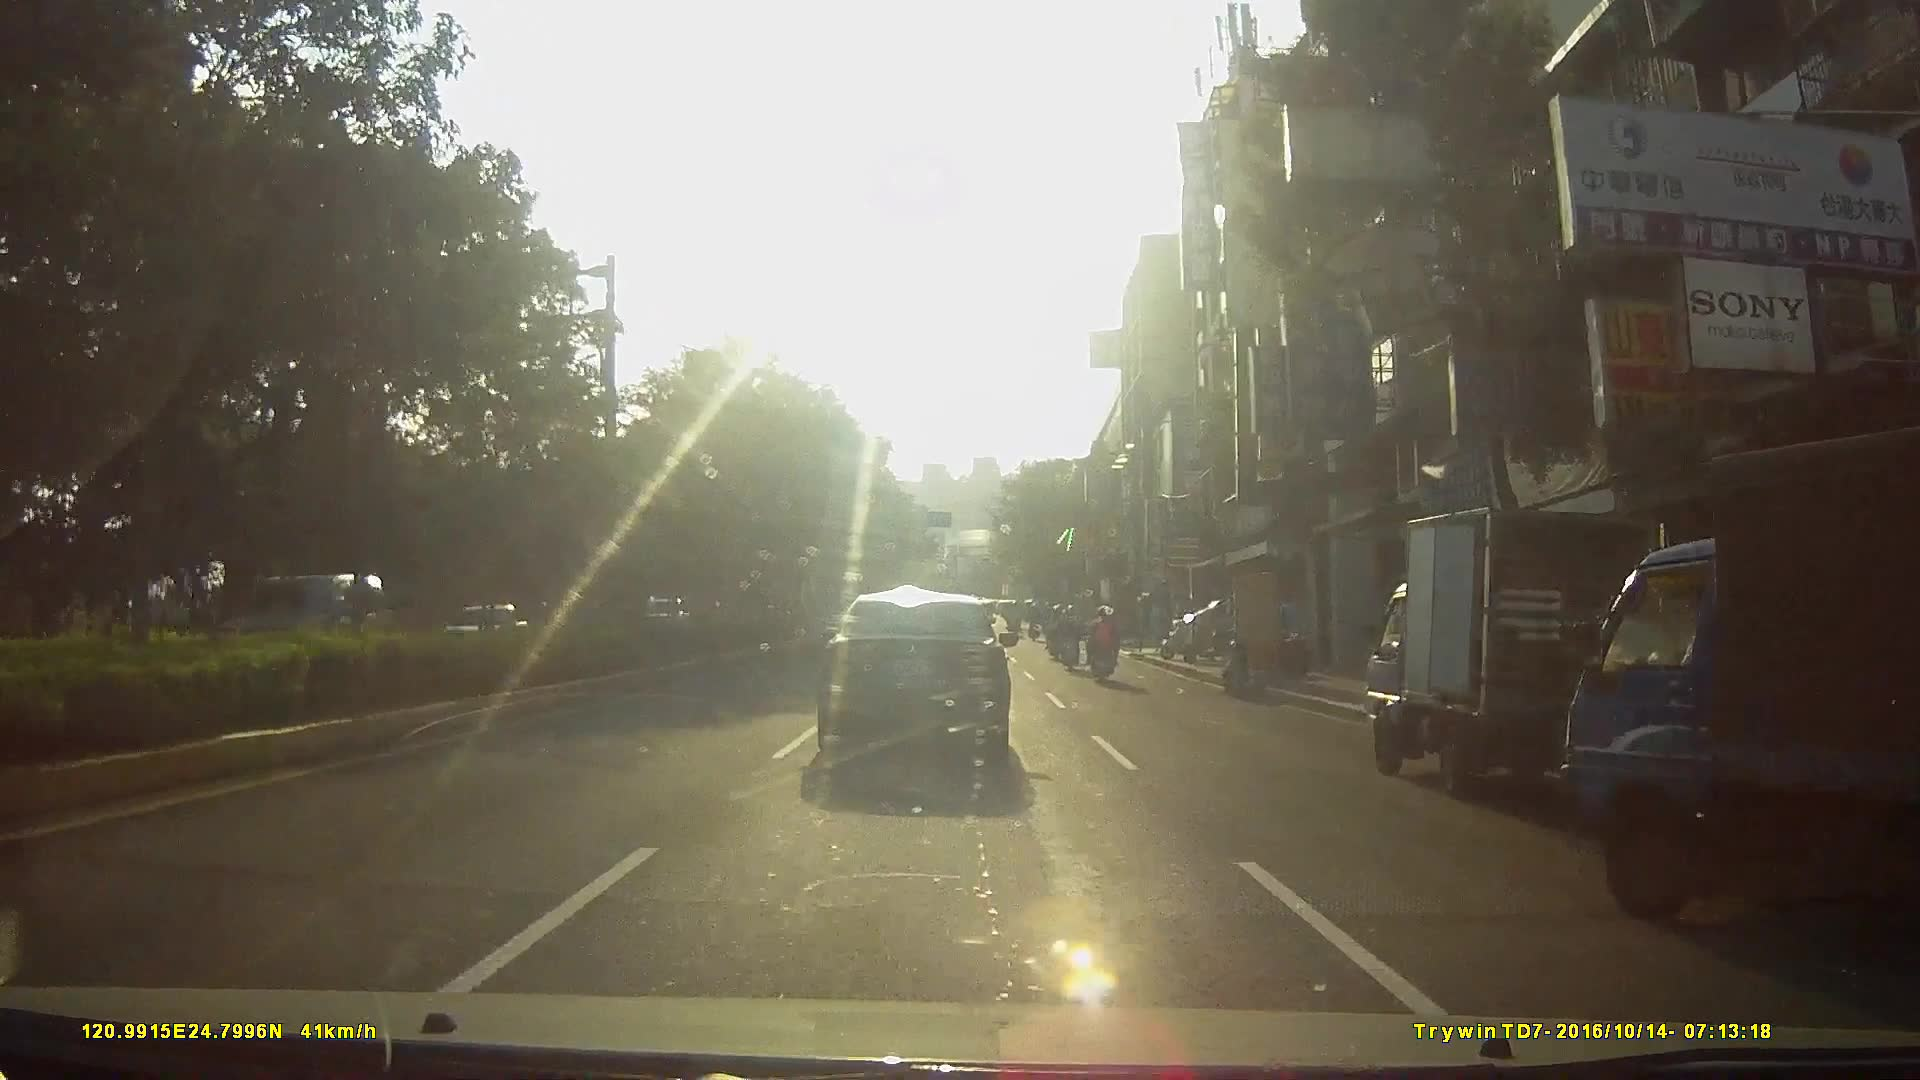rider: (1084, 605, 1122, 684), (1056, 603, 1085, 672), (1046, 606, 1066, 663)
vehicle: (1557, 429, 1920, 960), (1354, 497, 1675, 793), (811, 592, 1025, 786)
